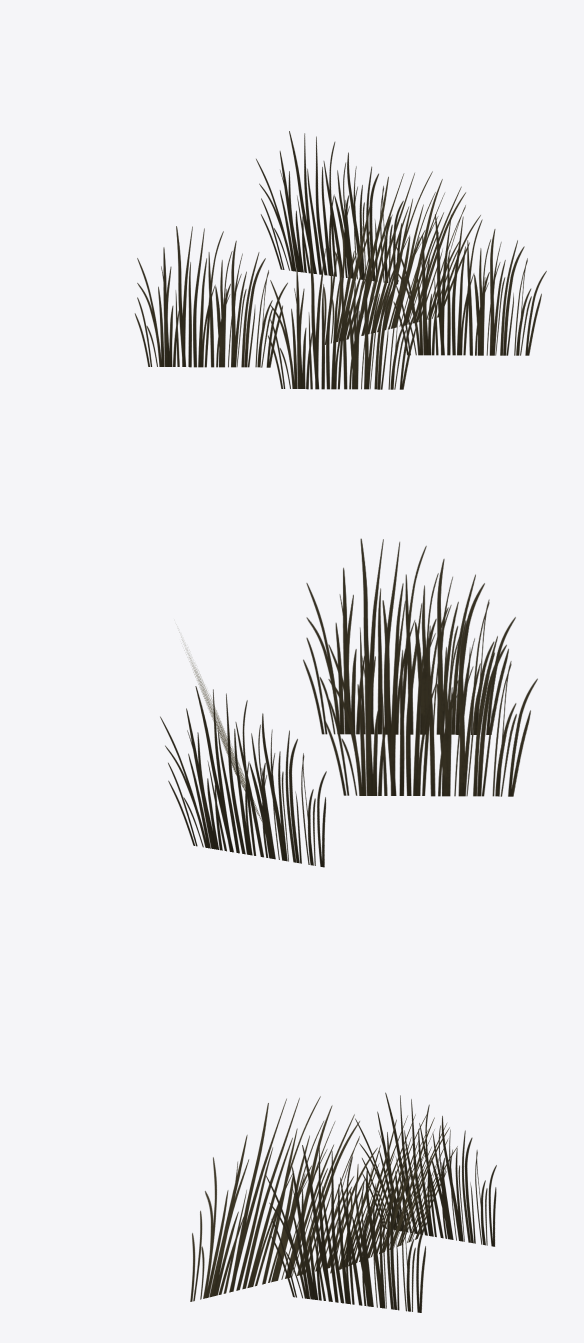
The model's file is grass_chunk_low.glb.
3 renders of one model, top to bottom at view 1: azimuth 30°, elevation 25°; view 2: azimuth 150°, elevation 25°; view 3: azimuth 270°, elevation 25°, orthographic. The views are drawn at different scales.
Parts seen in each view (by area): view 1: grass-anim.png__; view 2: grass-anim.png__; view 3: grass-anim.png__.
Part boxes in pixels (left/top/right/bottom): grass-anim.png__: left=134, top=131, right=546, bottom=389; grass-anim.png__: left=160, top=538, right=537, bottom=867; grass-anim.png__: left=190, top=1092, right=496, bottom=1312.
Bounding box in the file's own units: 5.74 × 2.71 × 6.09.
Materials: 1 (1 with a texture image).
